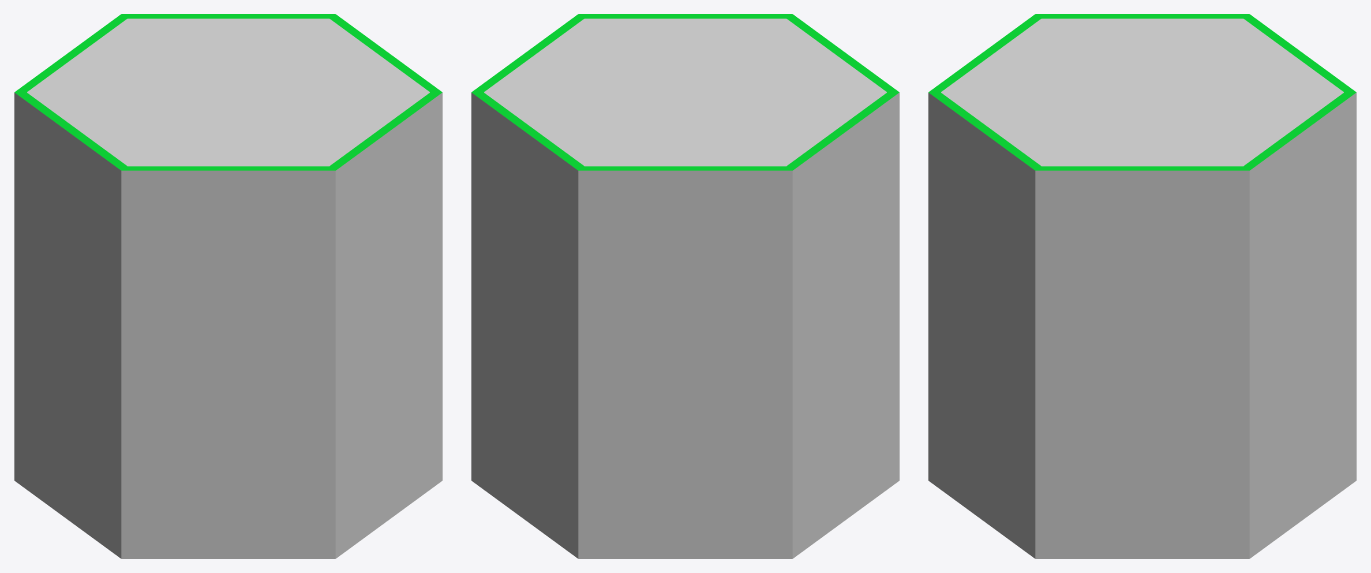
File: borderHex.fbx
The picture shows the model from 3 angles, left to right: view 1: azimuth 30°, elevation 25°; view 2: azimuth 150°, elevation 25°; view 3: azimuth 270°, elevation 25°; orthographic projection.
Parts seen in each view (by area): view 1: Cylinder; view 2: Cylinder; view 3: Cylinder.
Part boxes in pixels (x1,y1,x2,y2): Cylinder: [14, 14, 442, 558]; Cylinder: [471, 14, 899, 558]; Cylinder: [928, 14, 1356, 558].
Size of the model in its own units: 173 by 200 by 200.
